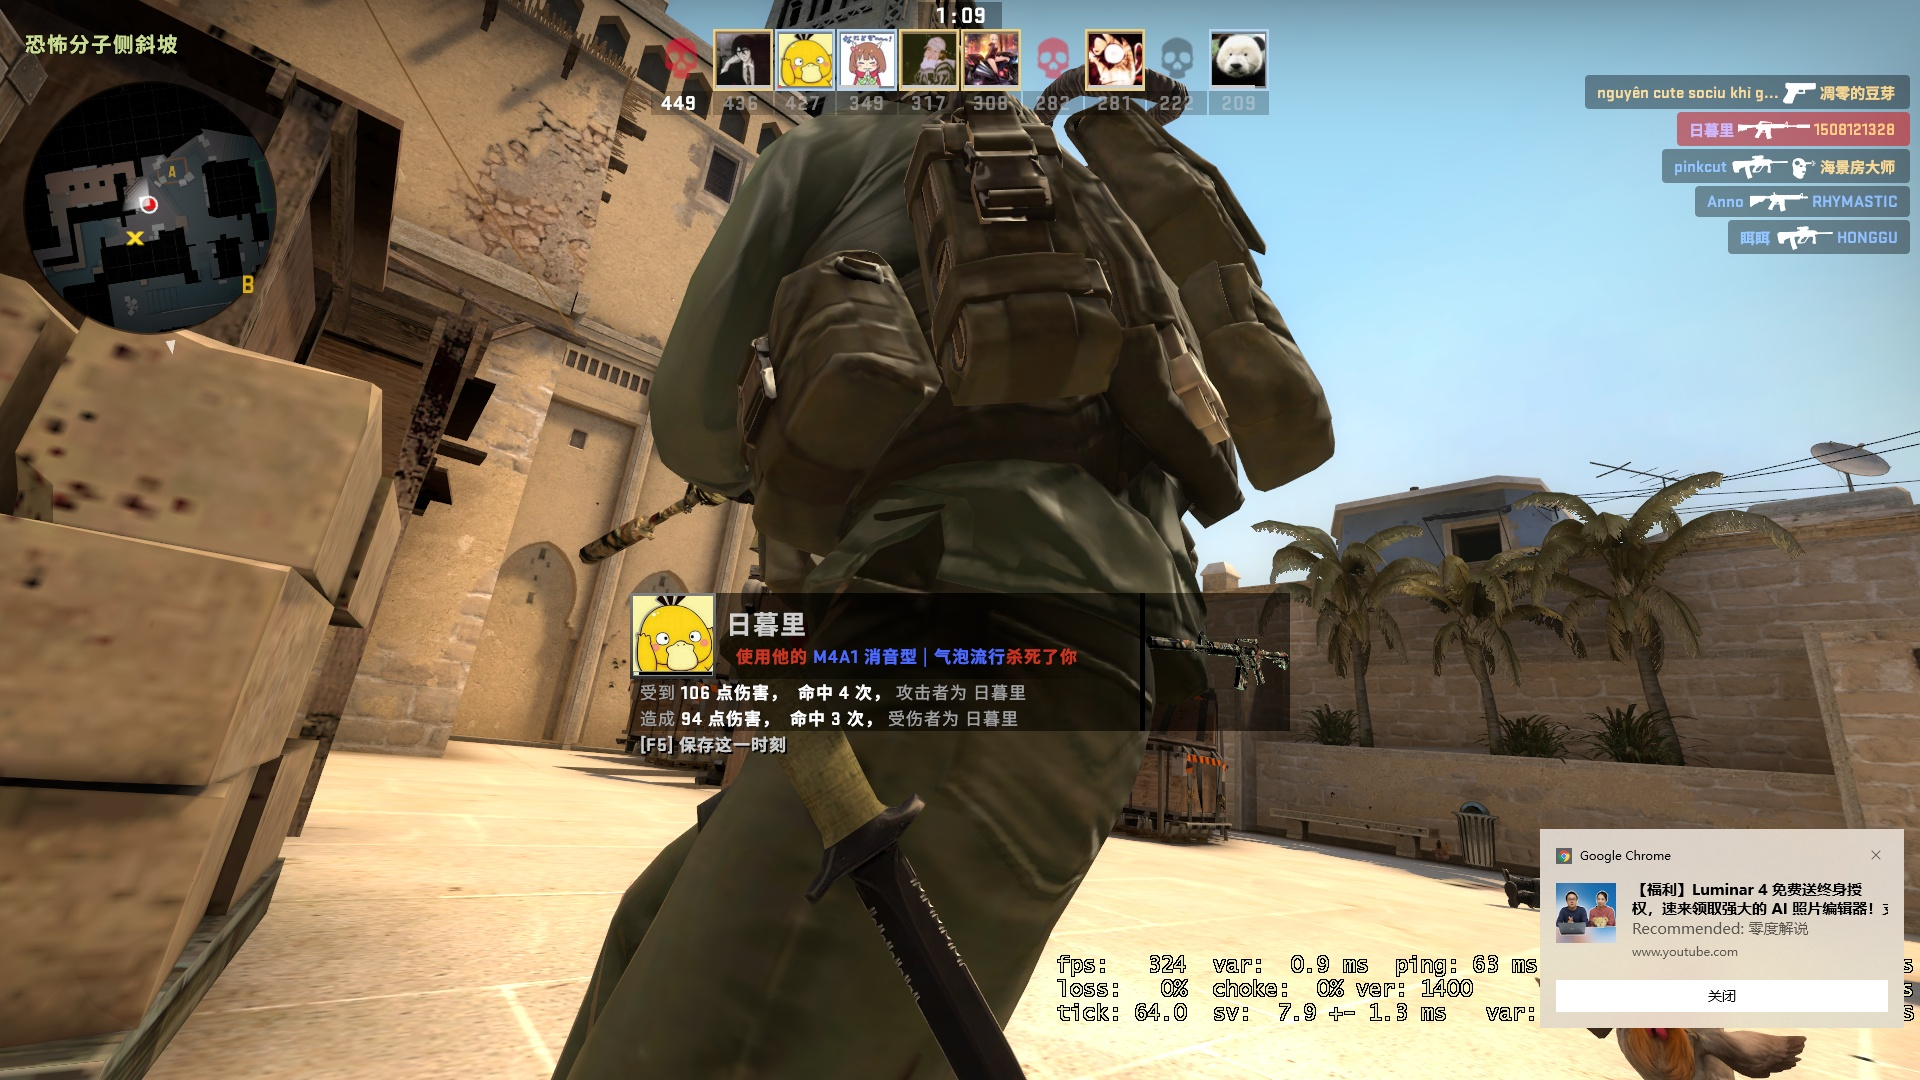body: (644, 55, 1215, 1080)
